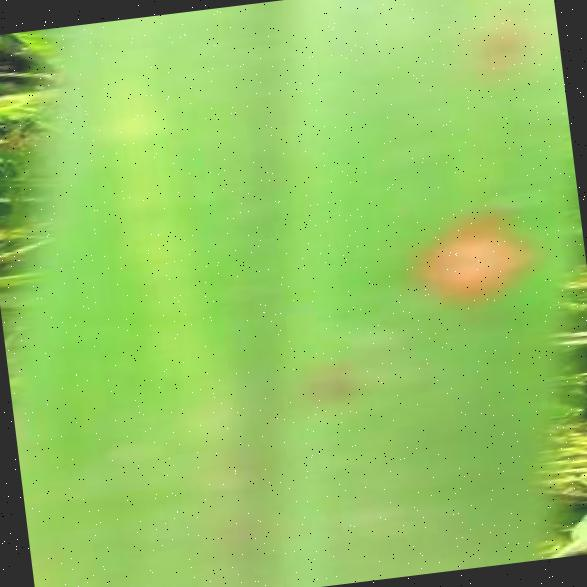Leaf_smut: (386, 182, 572, 332)
